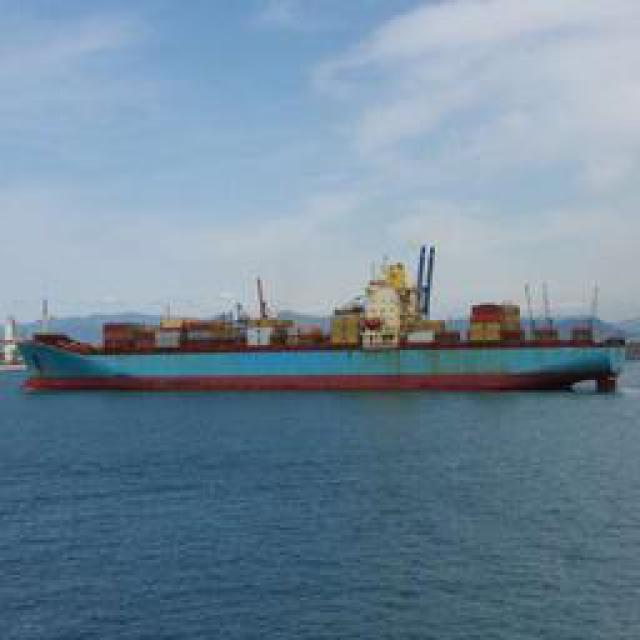Ship: (24, 305, 637, 395)
